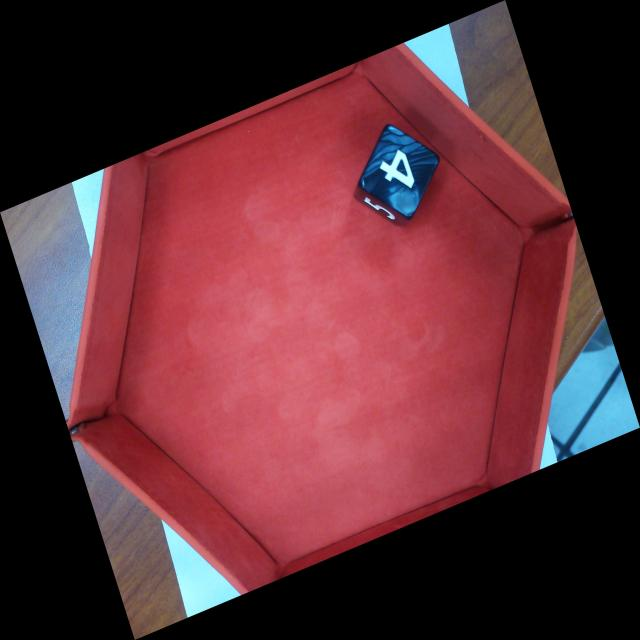dice: (357, 122, 442, 223)
